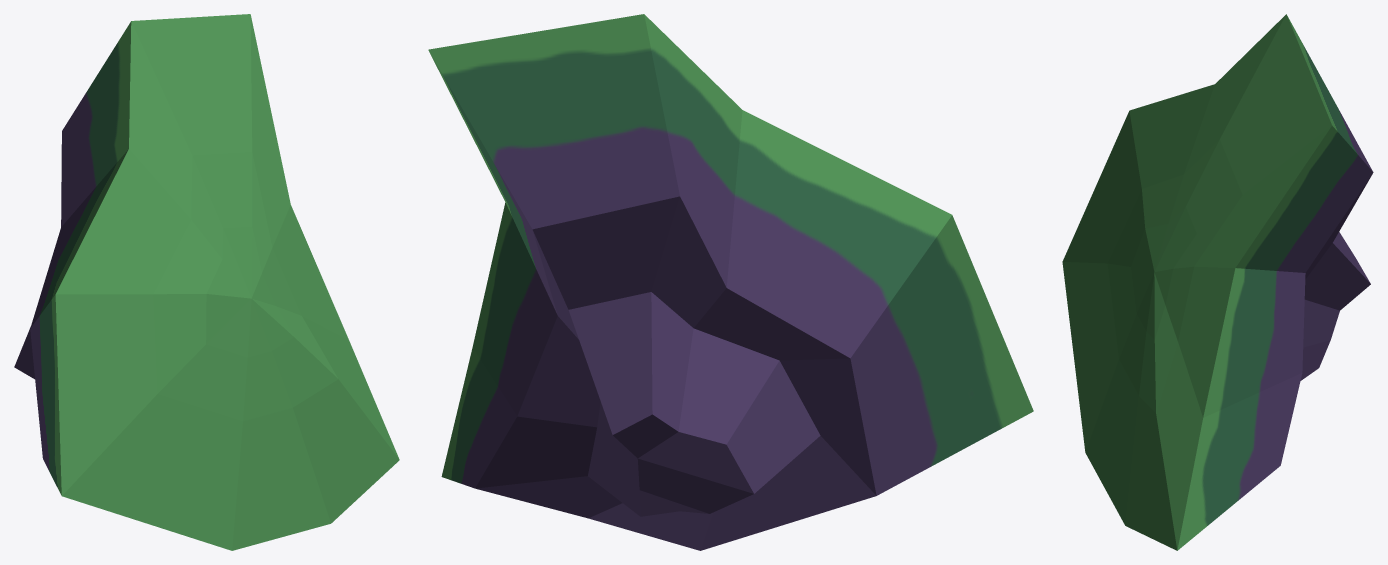
Rendered from Isla mediana 1.fbx.
3 renders of one model, left to right at view 1: azimuth 30°, elevation 25°; view 2: azimuth 150°, elevation 25°; view 3: azimuth 270°, elevation 25°, orthographic. The views are drawn at different scales.
Visible parts, largest first — view 1: Isla mediana 1; view 2: Isla mediana 1; view 3: Isla mediana 1.
Part boxes in pixels (x1,y1,x2,y2): Isla mediana 1: [14, 14, 399, 550]; Isla mediana 1: [428, 14, 1033, 550]; Isla mediana 1: [1062, 14, 1373, 550].
Bounding box in the file's own units: 1817 × 2057 × 1270.
